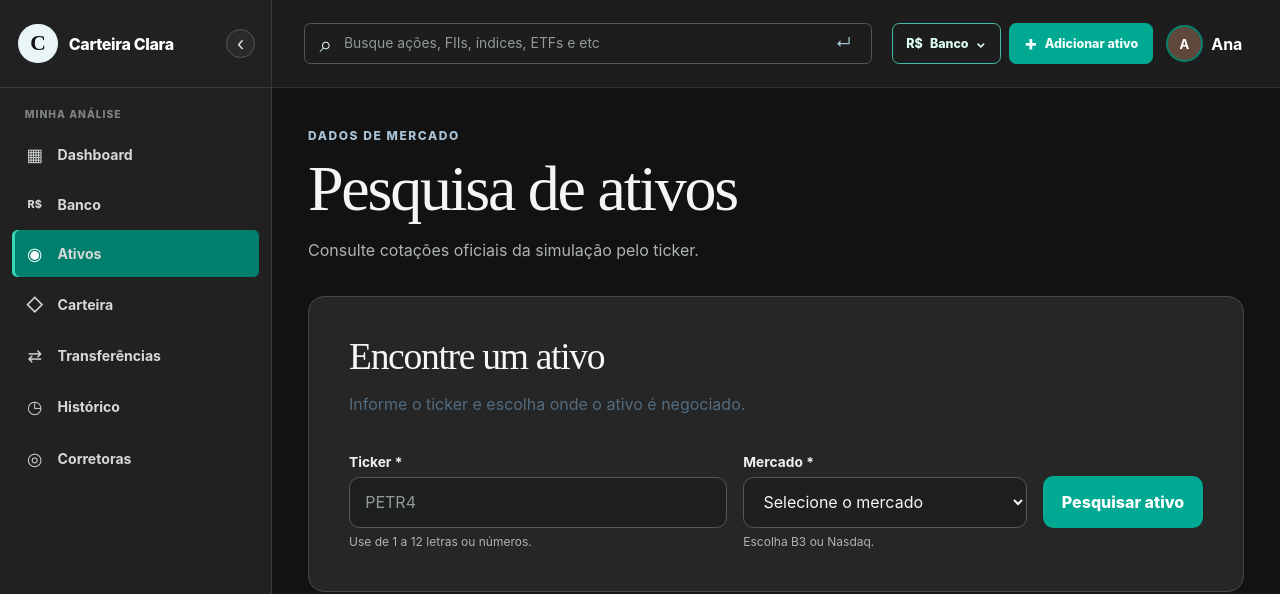
Test case: assets private route › remove dados e direciona ao login em resposta 401
Expected: the heading "Pesquisa de ativos" is shown, [308,153,737,224]
Type "AAPL" into the field labelled "Ticker *" at (538, 502), box [349,477,727,528]
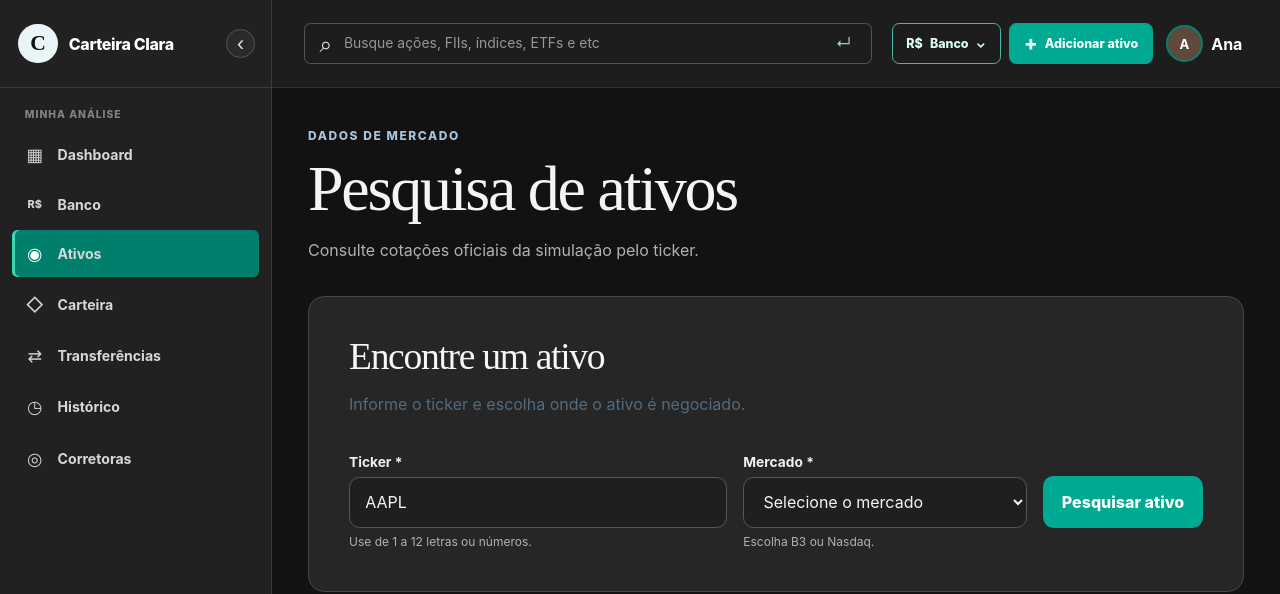
Select "Nasdaq" in the dropdown labelled "Mercado *" at (885, 502), box [743,477,1027,528]
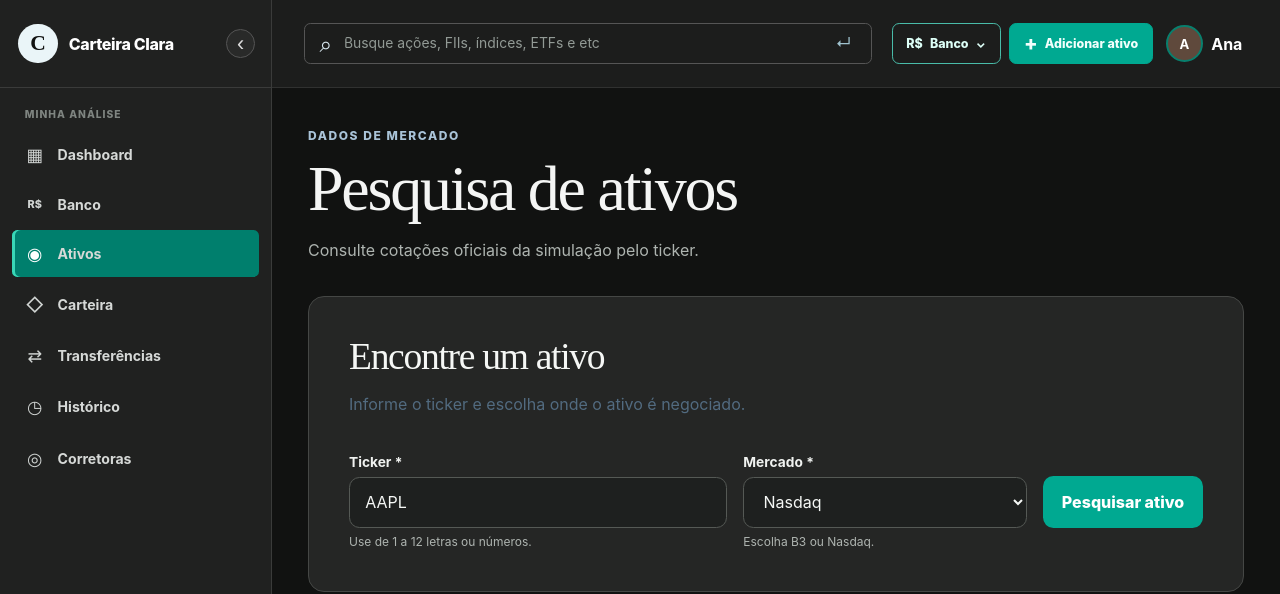
Click the button "Pesquisar ativo" at (1123, 502), box [1043,476,1203,528]
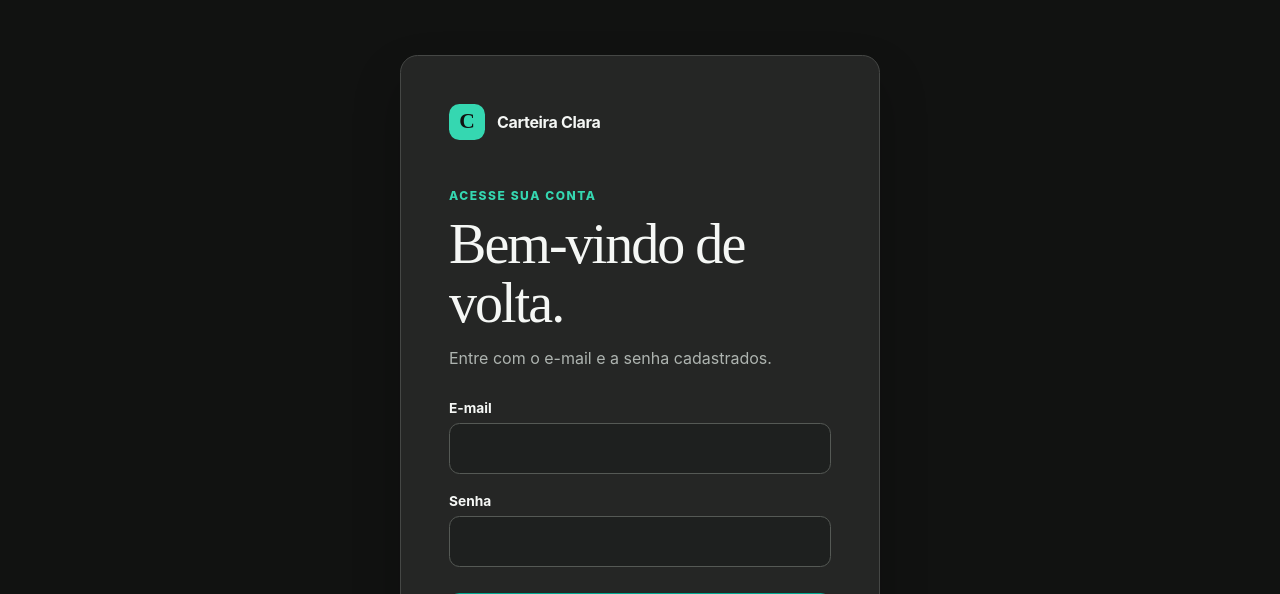
Expected: the heading "Bem-vindo de volta." is shown, [449,213,744,334]
Expected: the heading "Pesquisa de ativos" is gone
